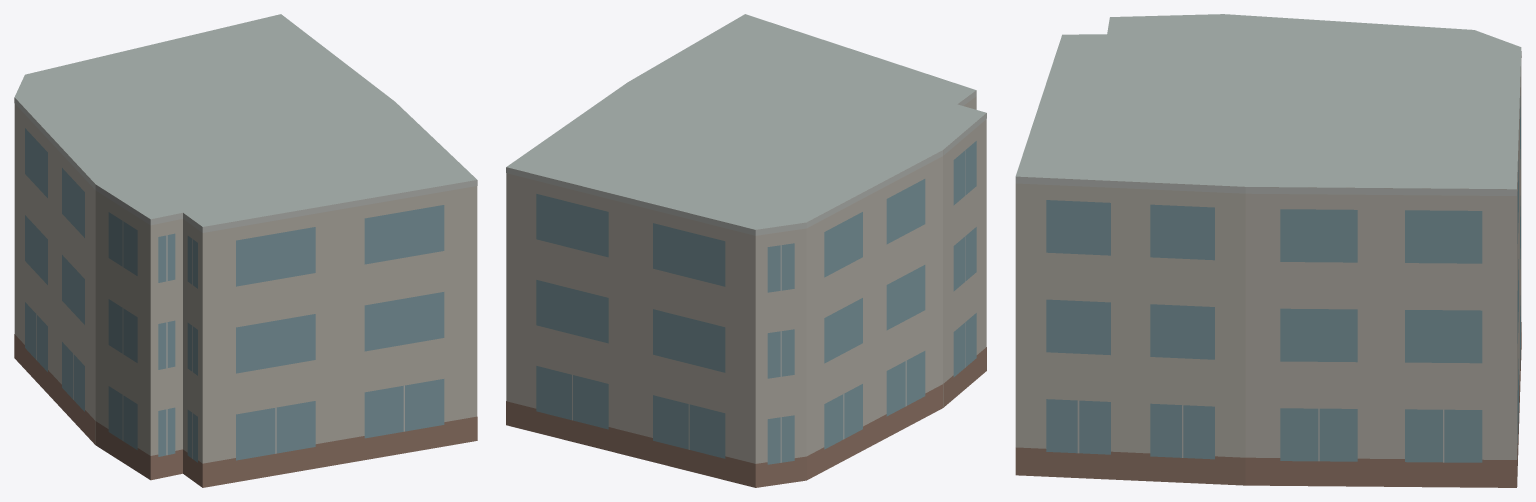
File: survey-upis-32934833.glb
The picture shows the model from 3 angles, left to right: view 1: azimuth 30°, elevation 25°; view 2: azimuth 150°, elevation 25°; view 3: azimuth 270°, elevation 25°; orthographic projection. The views are drawn at different scales.
Parts seen in each view (by area): view 1: survey-upis-32934833.tmp; view 2: survey-upis-32934833.tmp; view 3: survey-upis-32934833.tmp.
Boxes of the visible parts, x1=… form: survey-upis-32934833.tmp: x1=14, y1=14, x2=477, y2=487; survey-upis-32934833.tmp: x1=506, y1=14, x2=986, y2=487; survey-upis-32934833.tmp: x1=1015, y1=14, x2=1521, y2=487.
Size of the model in its own units: 13.22 by 10.5 by 16.13.
